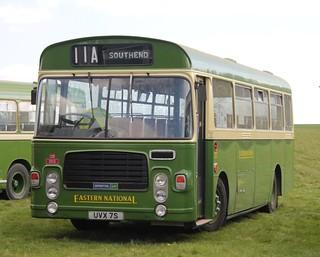bus: (31, 31, 294, 236), (0, 74, 42, 199)
